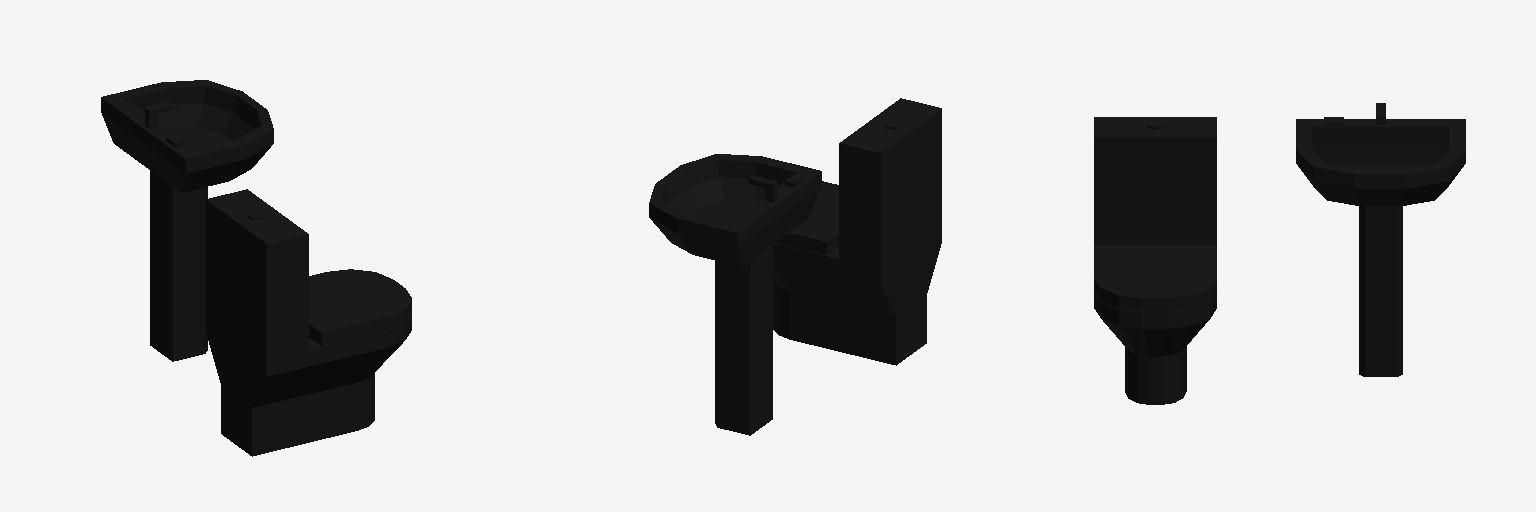
The model's file is toilet.obj.
3 renders of one model, left to right at view 1: azimuth 30°, elevation 25°; view 2: azimuth 150°, elevation 25°; view 3: azimuth 270°, elevation 25°, orthographic.
Bounding box in the file's own units: 1.18 × 1.71 × 2.33.